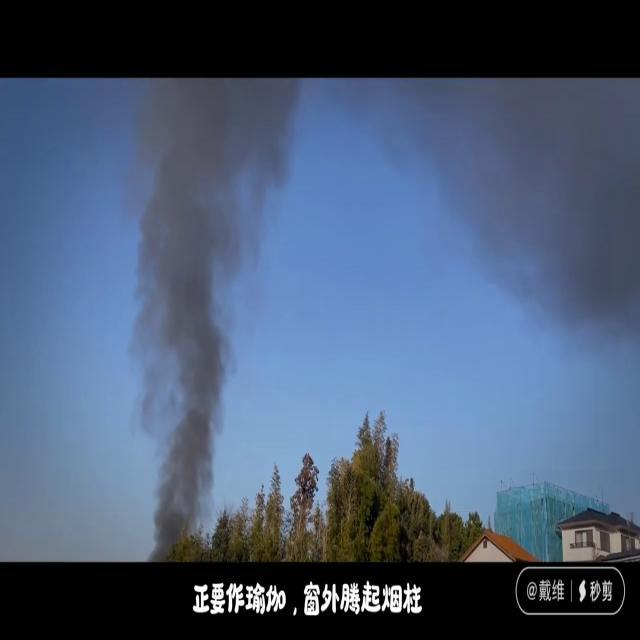Smoke: (122, 79, 293, 537)
